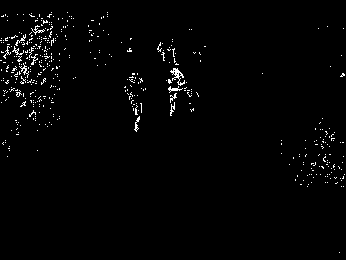person: (122, 67, 149, 134), (167, 61, 186, 118)
